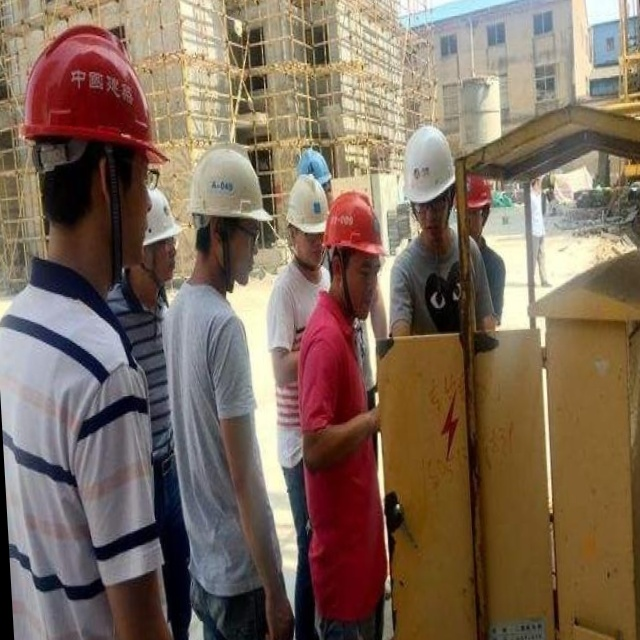Con_Casco: (191, 141, 277, 287), (395, 124, 458, 232)
Sin_Chaleco: (157, 279, 283, 593), (291, 304, 394, 616)
